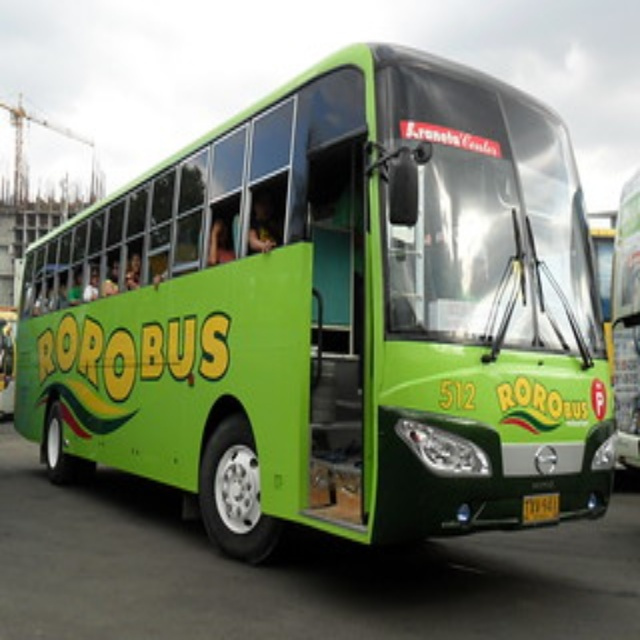Bus: (10, 40, 618, 565)
